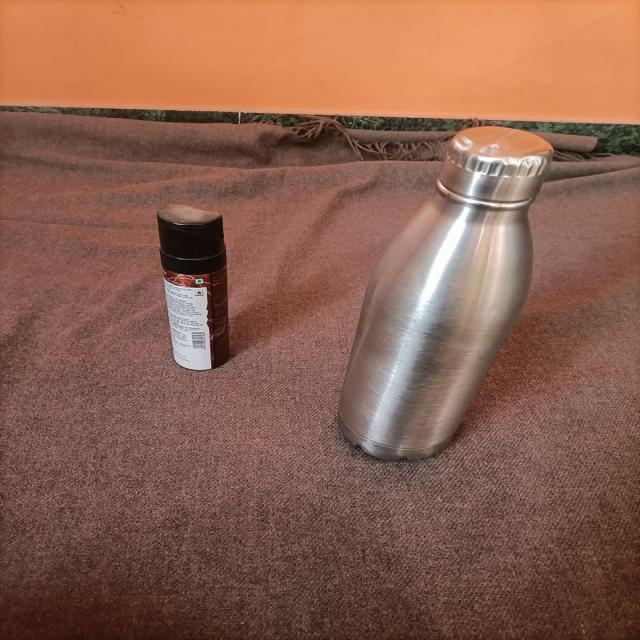bottle: (324, 126, 571, 461)
spray: (132, 179, 268, 391)
